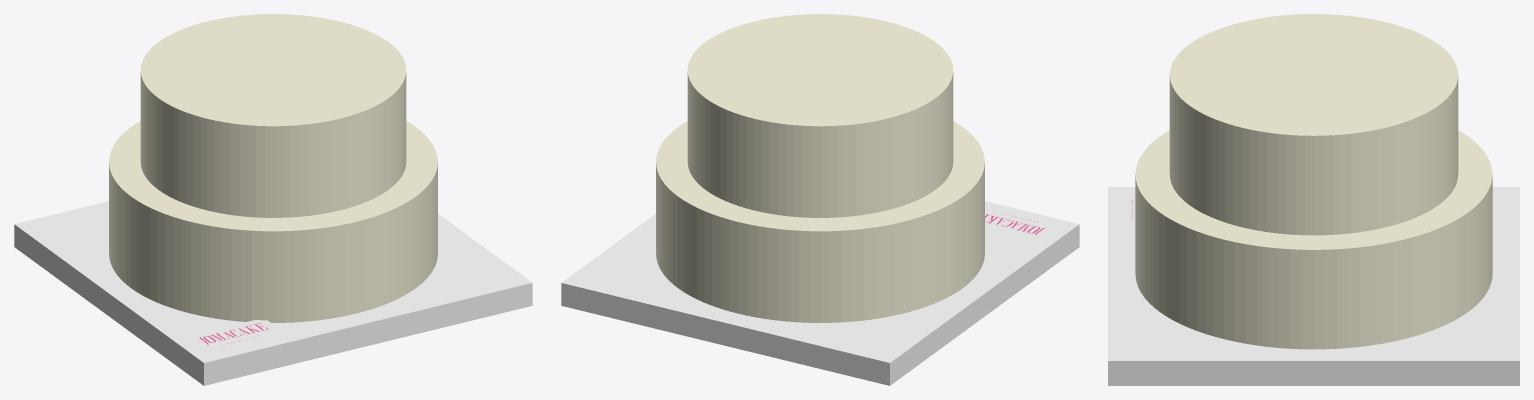
The model's file is cake_tier2_10-8_layers2_v44.glb.
The picture shows the model from 3 angles, left to right: view 1: azimuth 30°, elevation 25°; view 2: azimuth 150°, elevation 25°; view 3: azimuth 270°, elevation 25°; orthographic projection. The views are drawn at different scales.
Parts seen in each view (by area): view 1: Tier1, Tier0, Board, Logo; view 2: Tier1, Tier0, Board, Logo; view 3: Tier1, Tier0, Board, Logo.
Boxes of the visible parts, box(x1,y1,x2,y2) form: Tier1: box(140, 14, 406, 217); Tier0: box(109, 121, 437, 322); Board: box(14, 201, 532, 385); Logo: box(185, 320, 286, 353); Tier1: box(687, 14, 953, 217); Tier0: box(656, 121, 984, 322); Board: box(561, 201, 1079, 385); Logo: box(985, 204, 1063, 239); Tier1: box(1169, 14, 1458, 235); Tier0: box(1135, 130, 1492, 349); Board: box(1108, 187, 1519, 385); Logo: box(1120, 189, 1135, 230).
Bounding box in the file's own units: 0.3 × 0.18 × 0.3.
